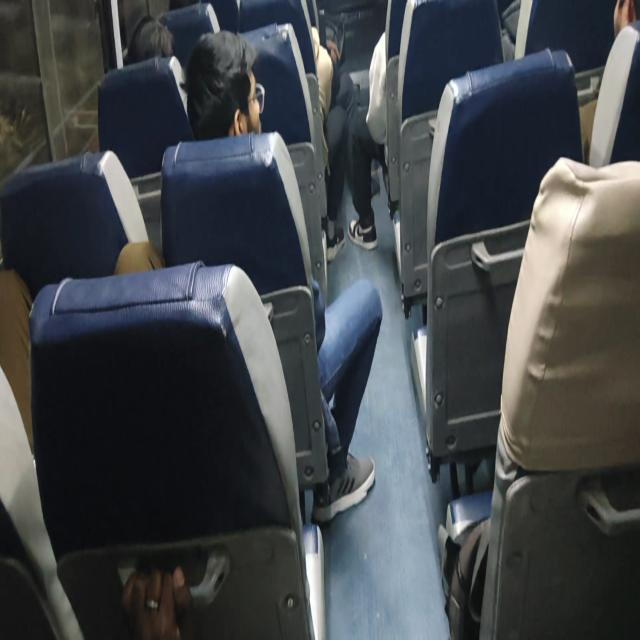person: (196, 40, 270, 130), (117, 14, 176, 77), (596, 0, 640, 53)
